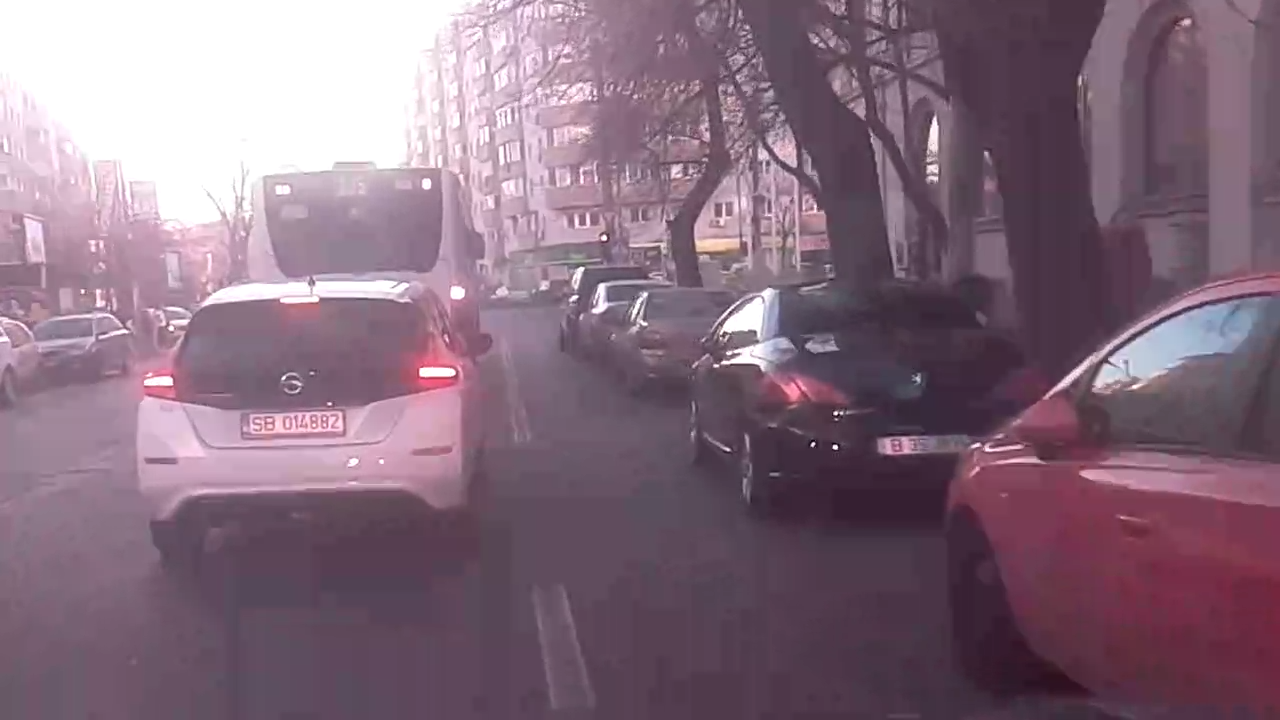license-plate: (236, 406, 348, 439)
